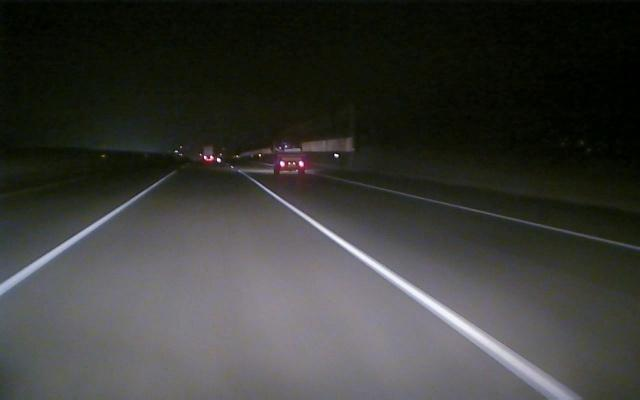lane: (257, 181, 583, 398), (362, 183, 640, 252), (2, 179, 163, 294)
